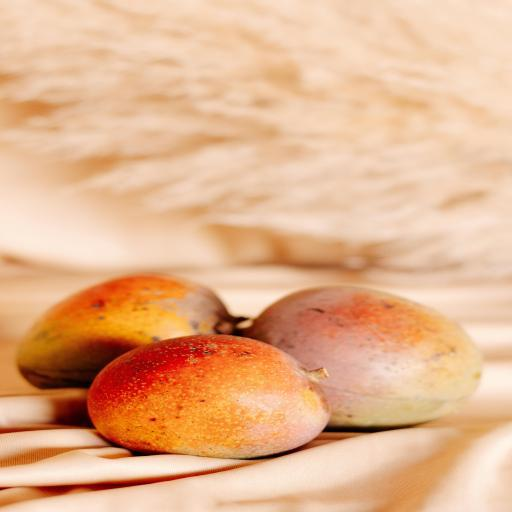mango: (244, 286, 481, 428), (88, 335, 329, 458), (18, 274, 237, 388)
